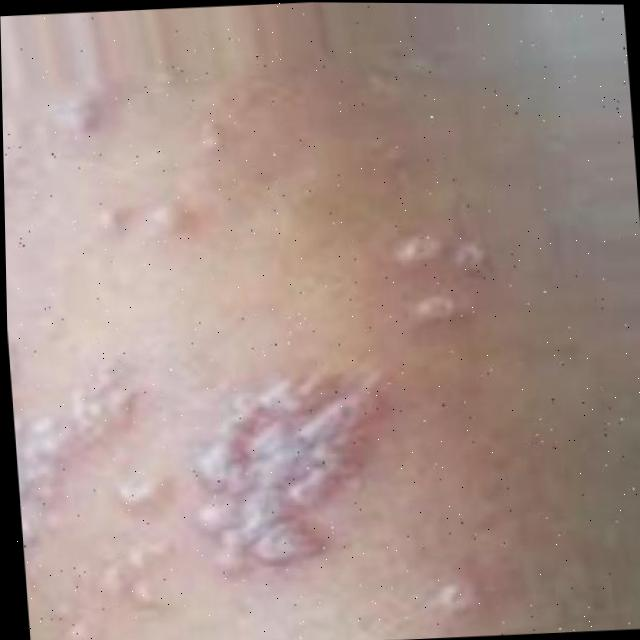Shingles: (7, 325, 392, 640), (394, 224, 492, 320)
